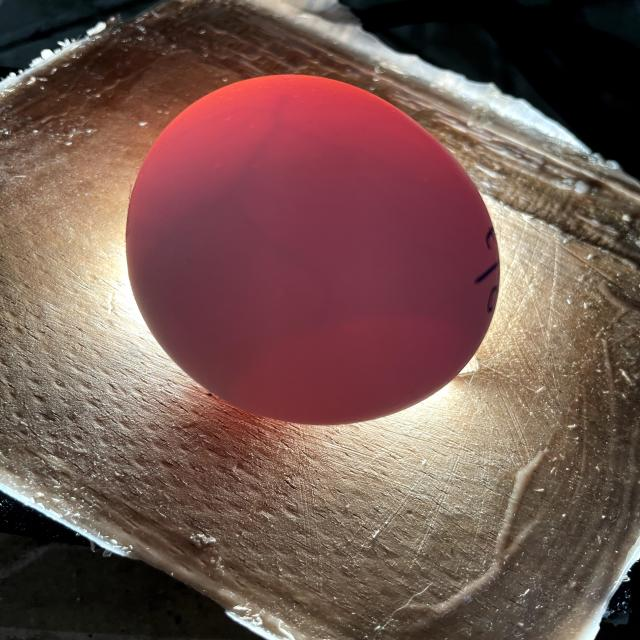fertile: (127, 75, 500, 424)
